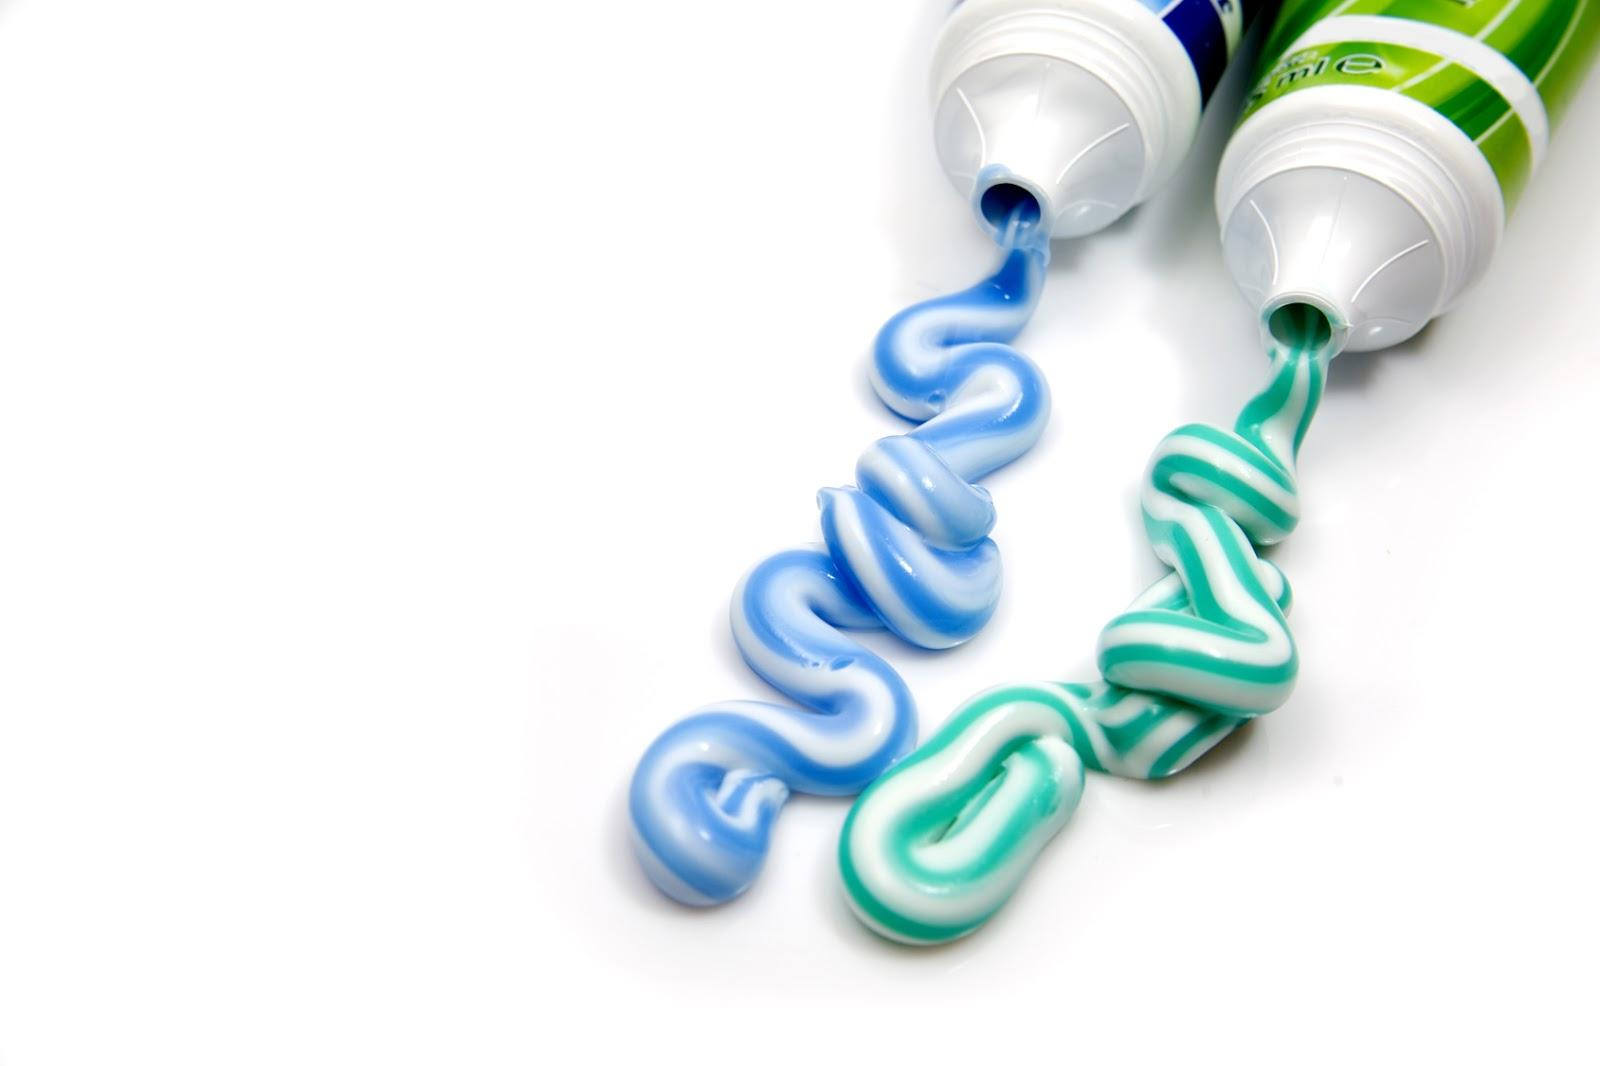toothpaste: (1213, 0, 1600, 402), (887, 0, 1272, 234)
